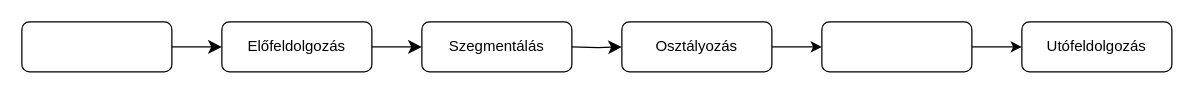
This 1194x94 diagram has some shape labels left out. Here are the shapes that lost their labels. From the top down, the centre of each, then its label:
(96,46): Kép
(896,46): Követés
